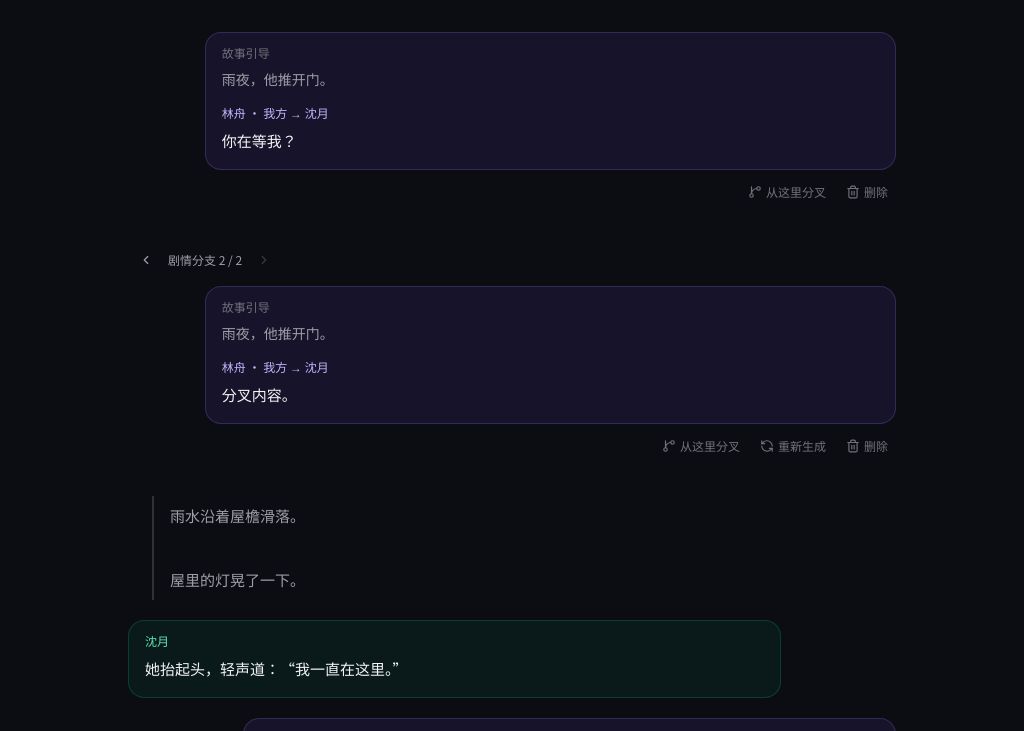
Test: roleplay script view › recovers to a surviving branch when its selected request is deleted
Expected: the text "分叉内容。" is shown, left=222, top=384, right=297, bottom=405
Click the button with aria-label "删除请求 #3" at (867, 446), box left=838, top=428, right=896, bottom=464
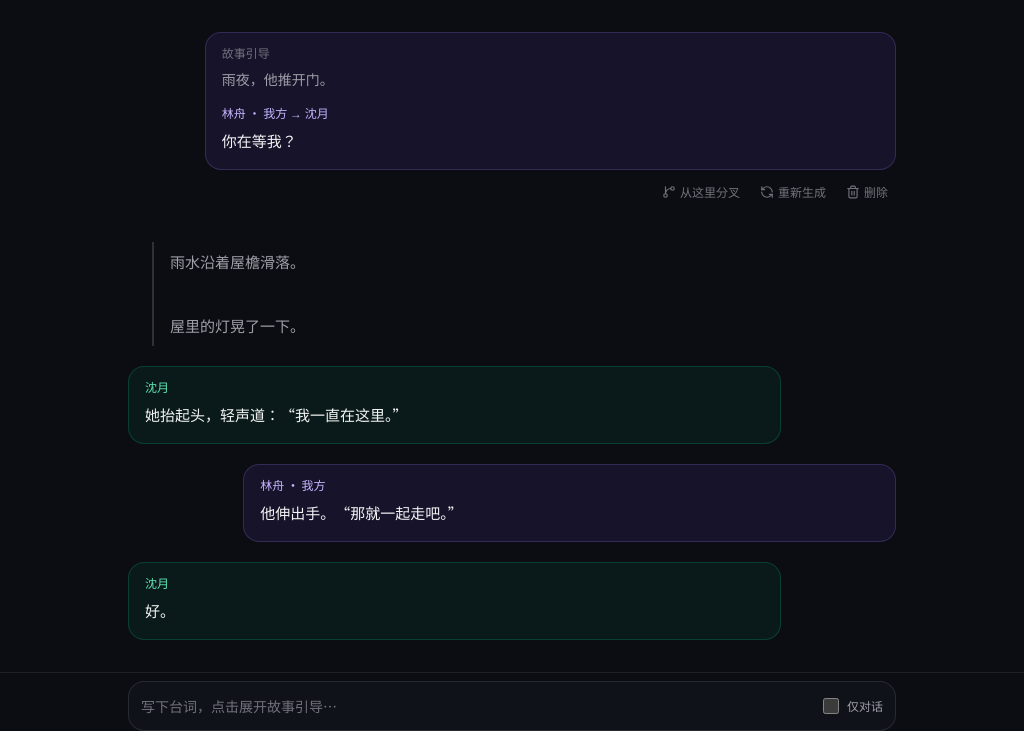
Expected: the button with test id "roleplay-regenerate-last" is enabled, left=752, top=174, right=834, bottom=210
Result: the element with test id "roleplay-message-1" is shown at left=128, top=242, right=896, bottom=640
Result: the text "分叉内容。" is gone
